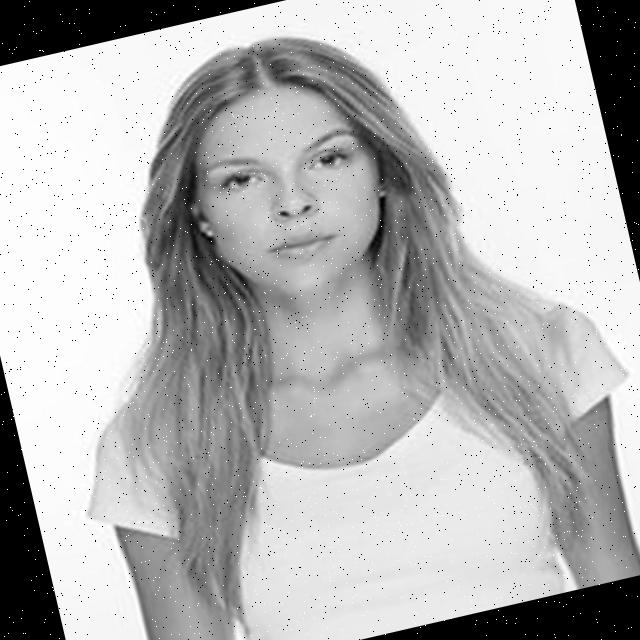Neutral: (182, 76, 394, 308)
